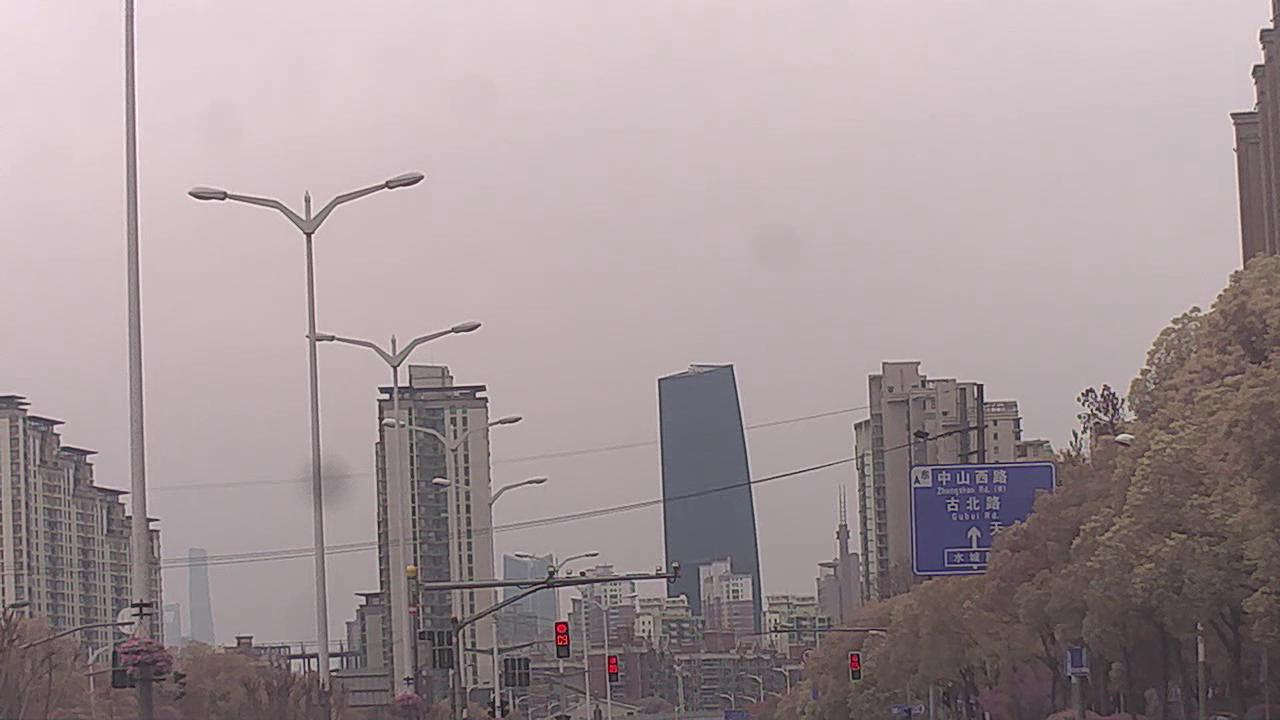traffic_light: (555, 621, 571, 656), (852, 651, 865, 683), (607, 656, 620, 682)
